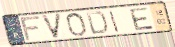D: (84, 10, 109, 36)
E: (128, 7, 156, 32)
F: (19, 15, 42, 43)
I: (108, 10, 120, 33)
O: (65, 11, 88, 37)
V: (40, 13, 63, 40)
